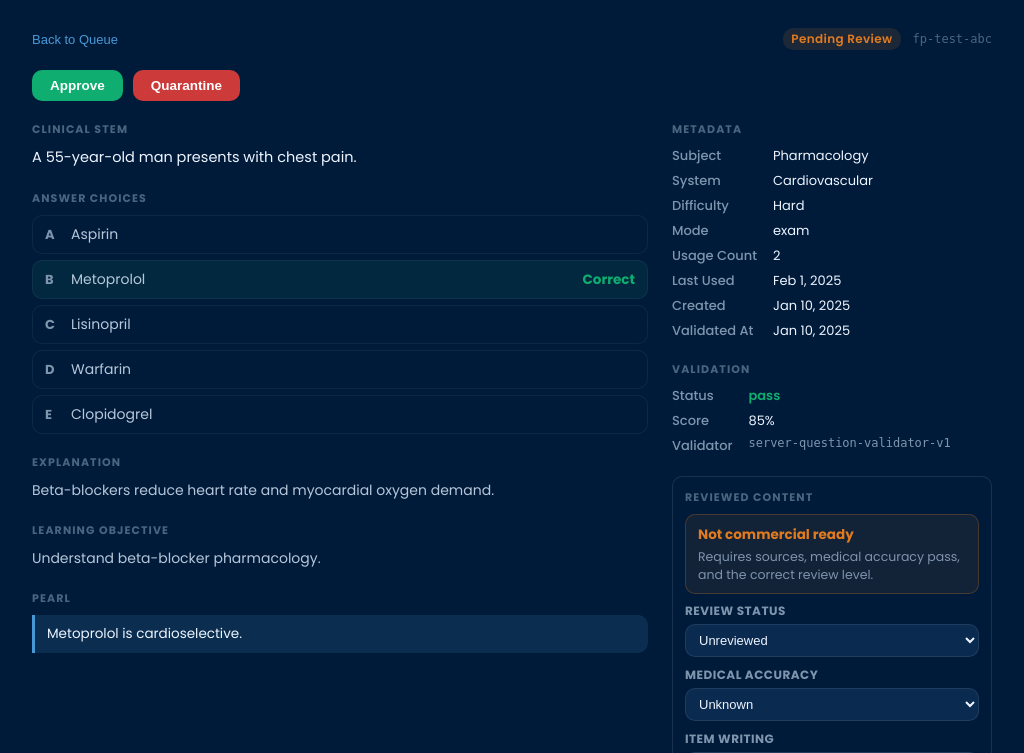
it: AdminReviewDetail › cancels modal without action
What coordinates should you click on to do the following:
click the button "Approve"
I would click on:
 (77, 86)
Its box is [32,70,123,101].
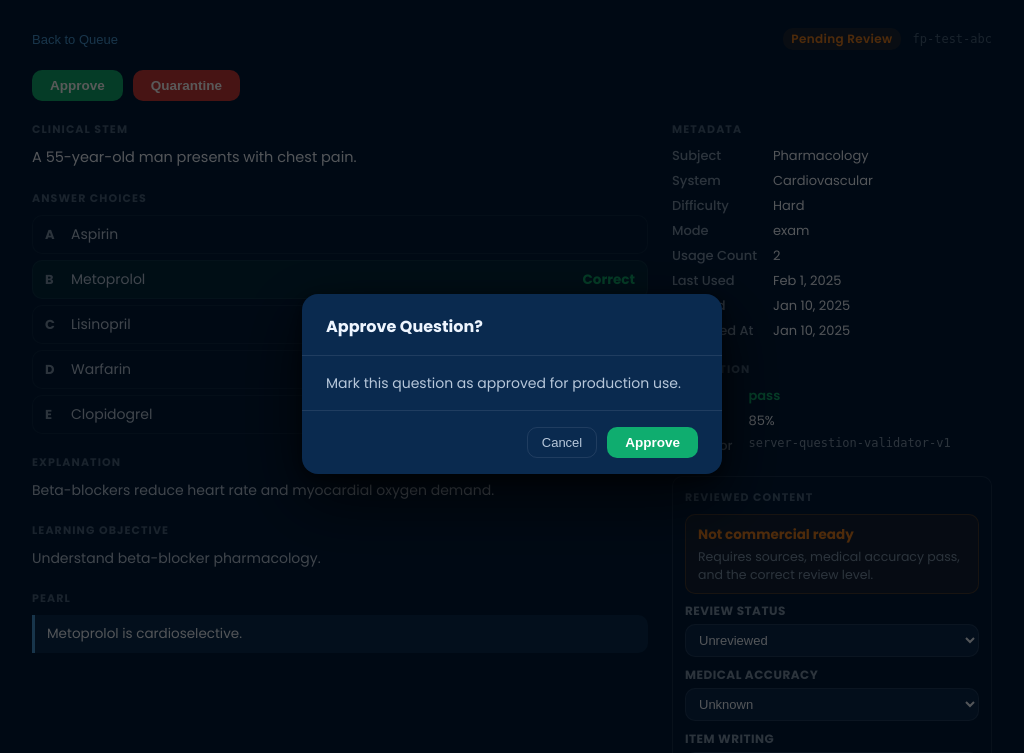
What coordinates should you click on to do the following:
click the button "Cancel"
I would click on:
 (562, 443)
Its box is [527,427,597,458].
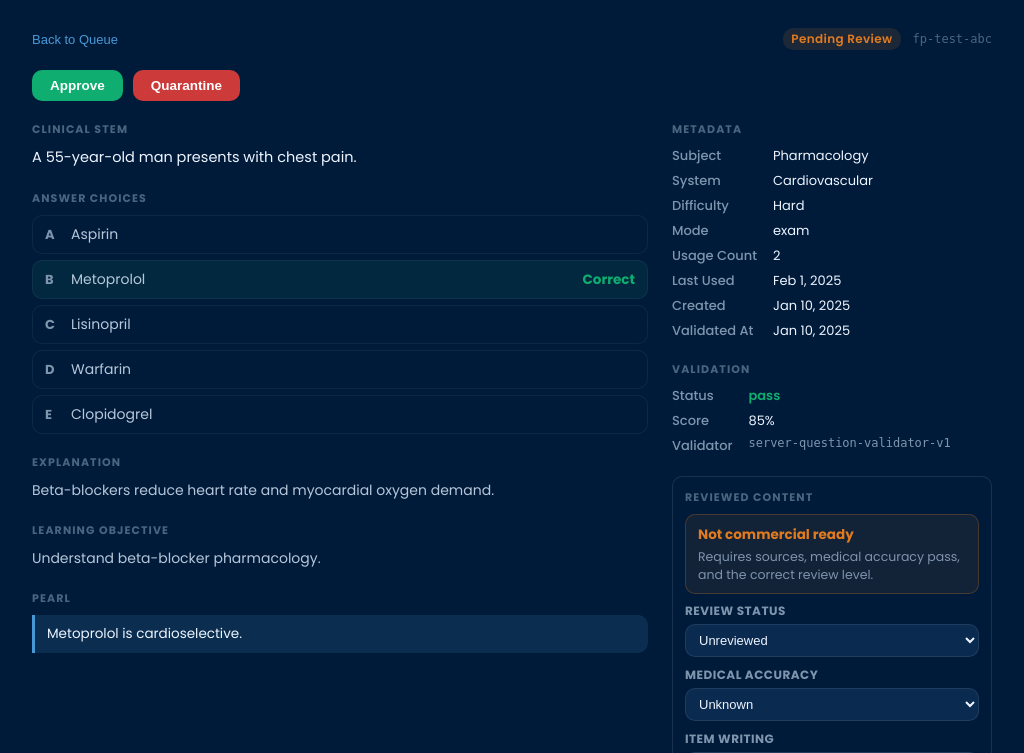
Check: the heading "Approve Question?" is gone
